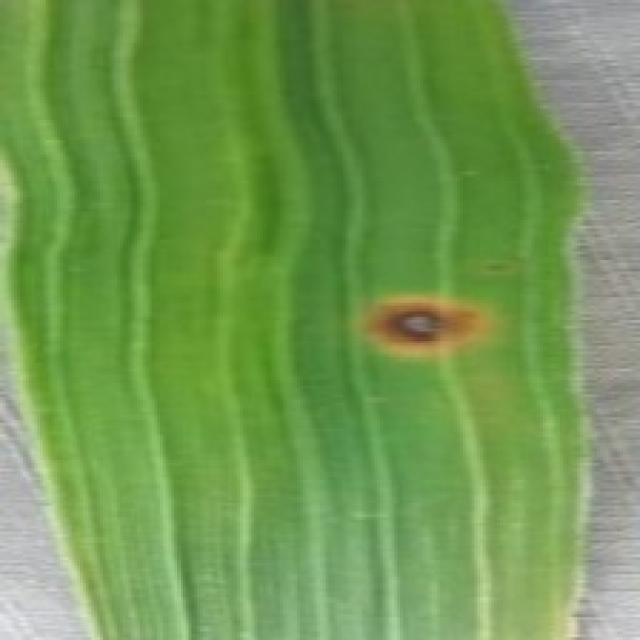Rice___Brown_Spot: (0, 0, 588, 637)
